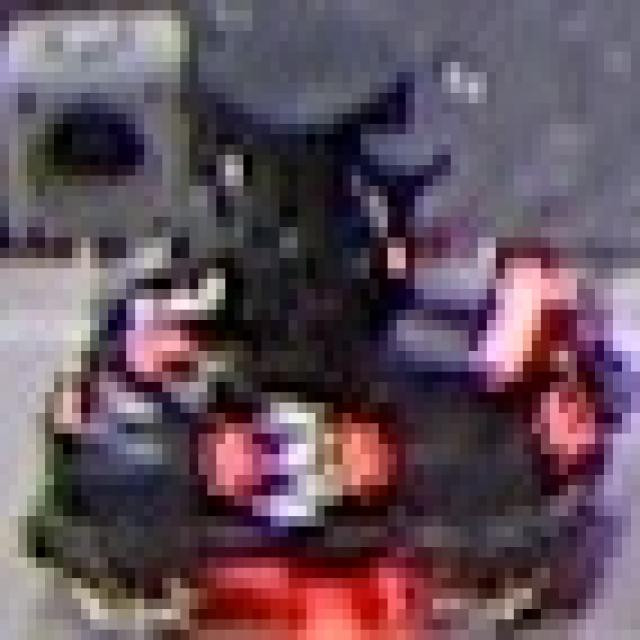R3: (198, 392, 388, 537), (109, 238, 244, 392)
